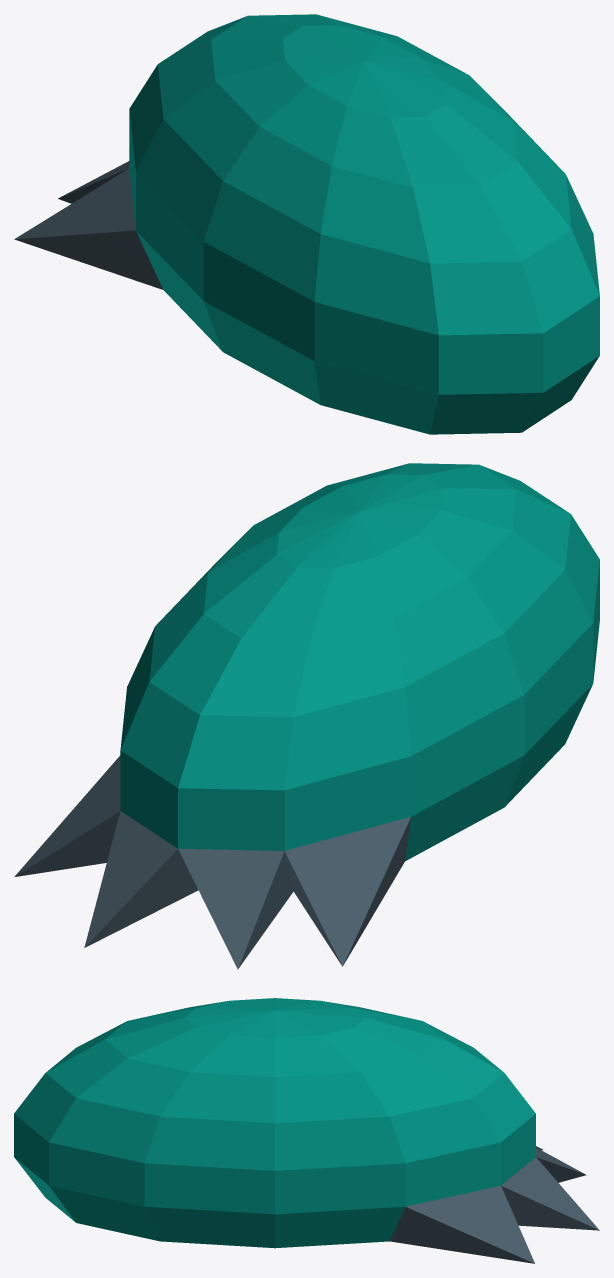
File: n5_n5_group161970612_lev5.glb
The picture shows the model from 3 angles, top to bottom: view 1: azimuth 30°, elevation 25°; view 2: azimuth 150°, elevation 25°; view 3: azimuth 270°, elevation 25°; orthographic projection. The views are drawn at different scales.
Parts seen in each view (by area): view 1: n5_n5_group161970612_lev5; view 2: n5_n5_group161970612_lev5; view 3: n5_n5_group161970612_lev5.
Part boxes in pixels (box(x1,y1,x2,y2)): n5_n5_group161970612_lev5: box(14, 14, 599, 434); n5_n5_group161970612_lev5: box(14, 463, 599, 969); n5_n5_group161970612_lev5: box(14, 998, 599, 1263).
Bounding box in the file's own units: 1.74 × 1.41 × 3.69.
